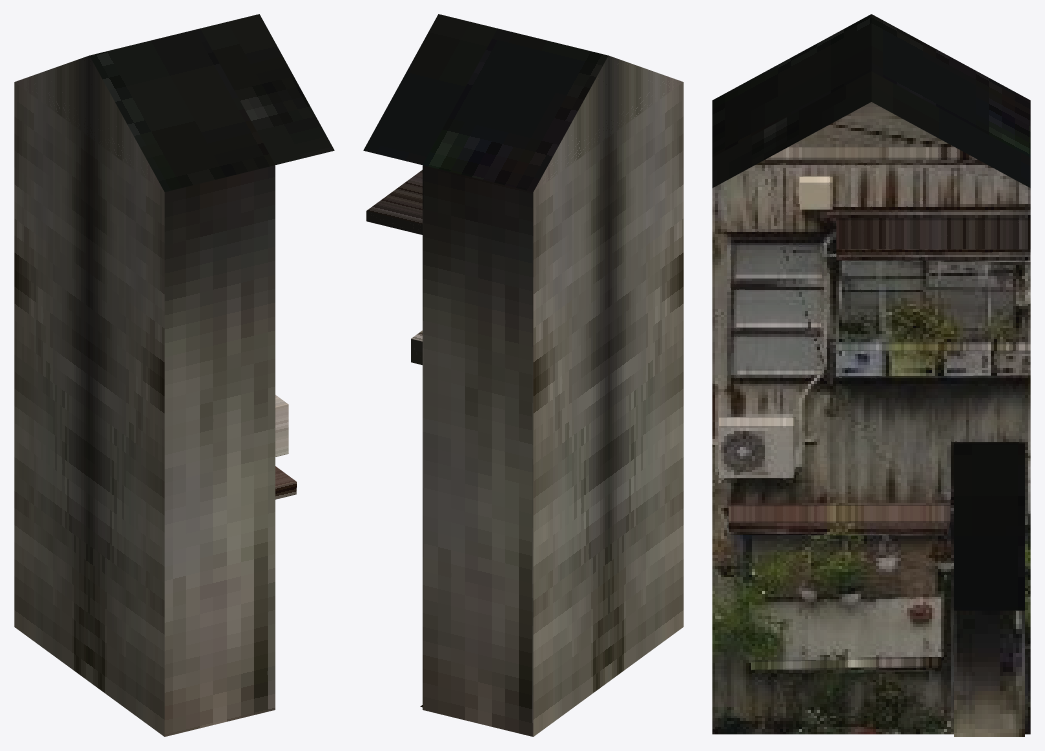
File: jp-narrow.glb
The picture shows the model from 3 angles, left to right: view 1: azimuth 30°, elevation 25°; view 2: azimuth 150°, elevation 25°; view 3: azimuth 270°, elevation 25°; orthographic projection. The views are drawn at different scales.
Parts seen in each view (by area): view 1: Cube_Shop_0; view 2: Cube_Shop_0; view 3: Cube_Shop_0.
Boxes of the visible parts, x1,y1,x2,y2 form: Cube_Shop_0: (14, 14, 334, 736); Cube_Shop_0: (363, 14, 683, 736); Cube_Shop_0: (712, 14, 1030, 736).
Bounding box in the file's own units: 3.41 × 12 × 5.22.
Materials: 1 (1 with a texture image).
